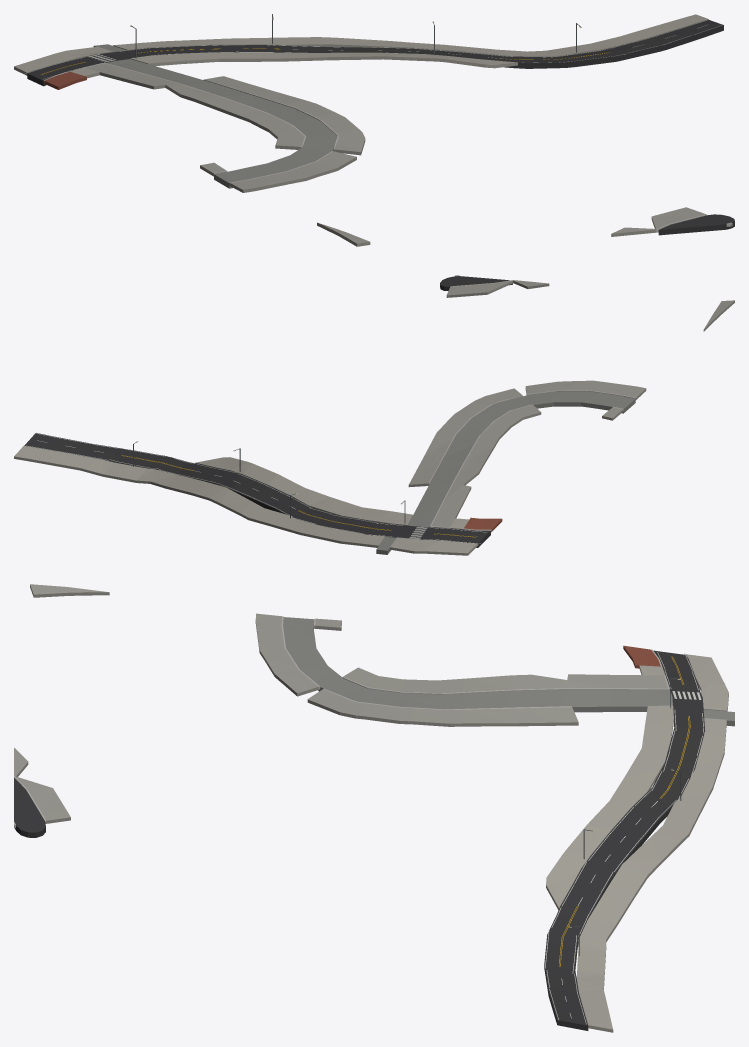
3 views of the same model, one above another, from view 1: azimuth 30°, elevation 25°; view 2: azimuth 150°, elevation 25°; view 3: azimuth 270°, elevation 25° (orthographic). The views are drawn at different scales.
Bounding box in the file's own units: 148 × 31.69 × 146.
